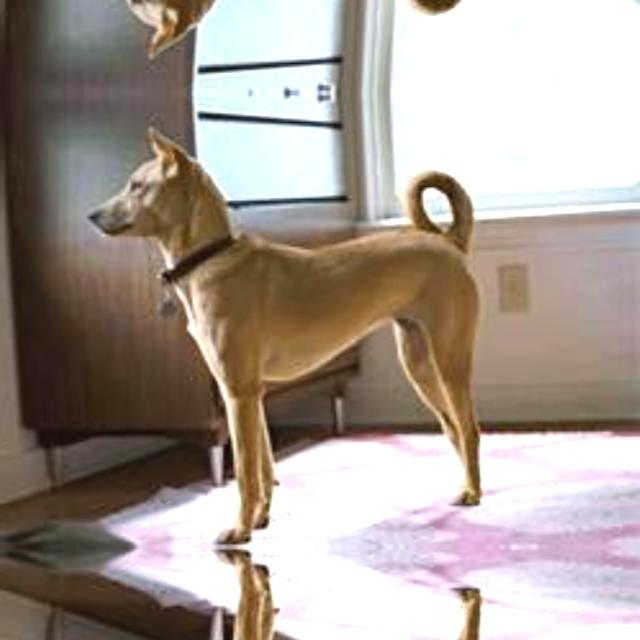dog: (80, 132, 498, 532), (80, 562, 499, 640), (80, 0, 499, 52)
